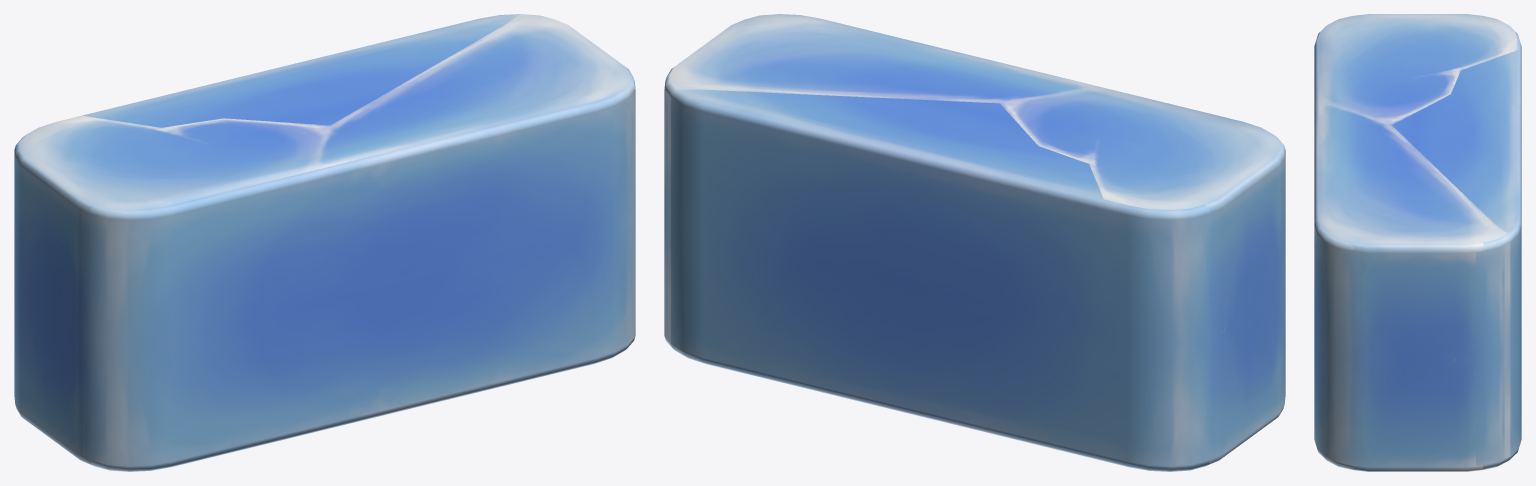
The model's file is Ice_tray.fbx.
3 views of the same model, side by side, from view 1: azimuth 30°, elevation 25°; view 2: azimuth 150°, elevation 25°; view 3: azimuth 270°, elevation 25° (orthographic). The views are drawn at different scales.
Parts seen in each view (by area): view 1: Ice_Tray_phase1, Ice_Tray_phase2; view 2: Ice_Tray_phase1, Ice_Tray_phase2; view 3: Ice_Tray_phase2, Ice_Tray_phase1.
Boxes of the visible parts, x1,y1,x2,y2 form: Ice_Tray_phase1: (14,14,635,471); Ice_Tray_phase2: (16,14,632,465); Ice_Tray_phase1: (664,74,1285,471); Ice_Tray_phase2: (667,14,1283,465); Ice_Tray_phase2: (1318,14,1517,471); Ice_Tray_phase1: (1314,25,1521,469).
Bounding box in the file's own units: 162 × 73.26 × 60.48.
